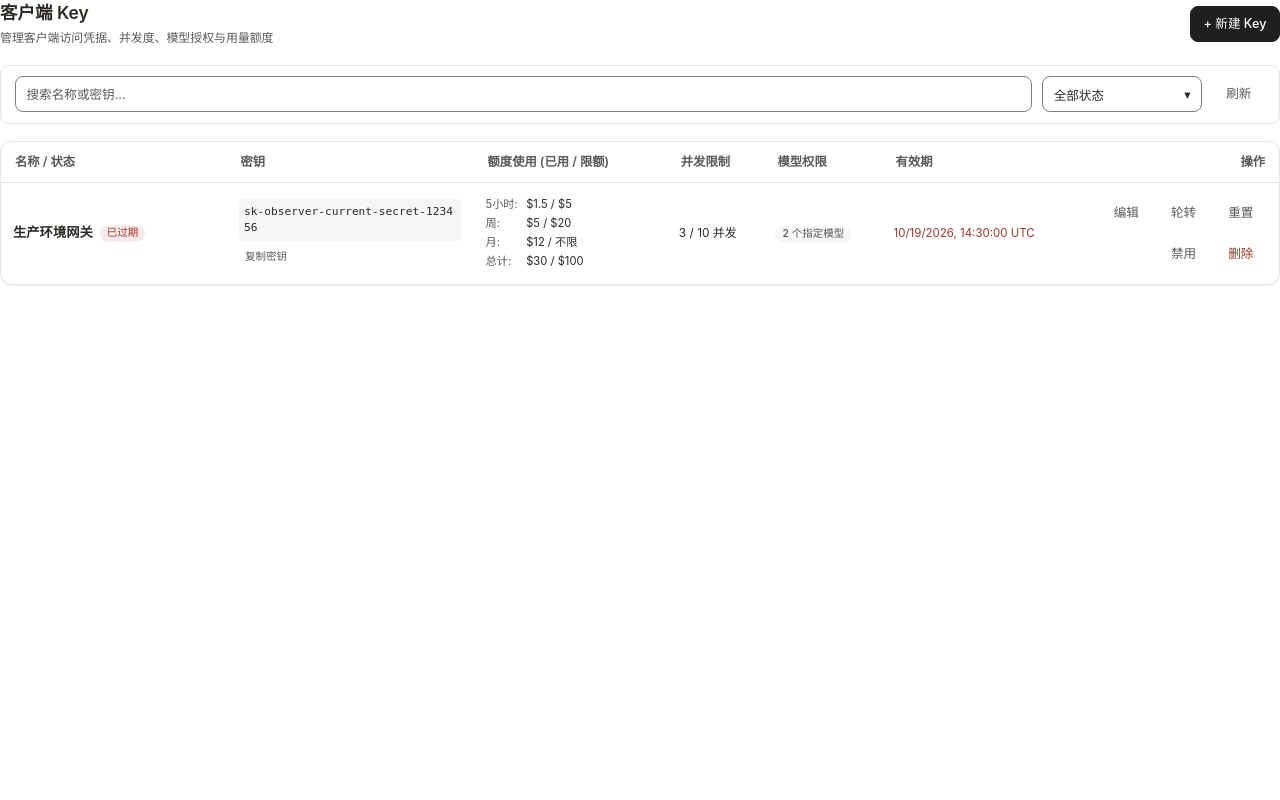
Test: KeysPage & ModelPicker Behavior Acceptance Tests › concurrency小数拒绝: rejects decimal and invalid numbers for max_concurrent
expect the text "生产环境网关" is shown: met, box top-left (13, 223), bottom-right (93, 243)
Click the button "+ 新建 Key": (1235, 24) top-left (1190, 6), bottom-right (1279, 42)
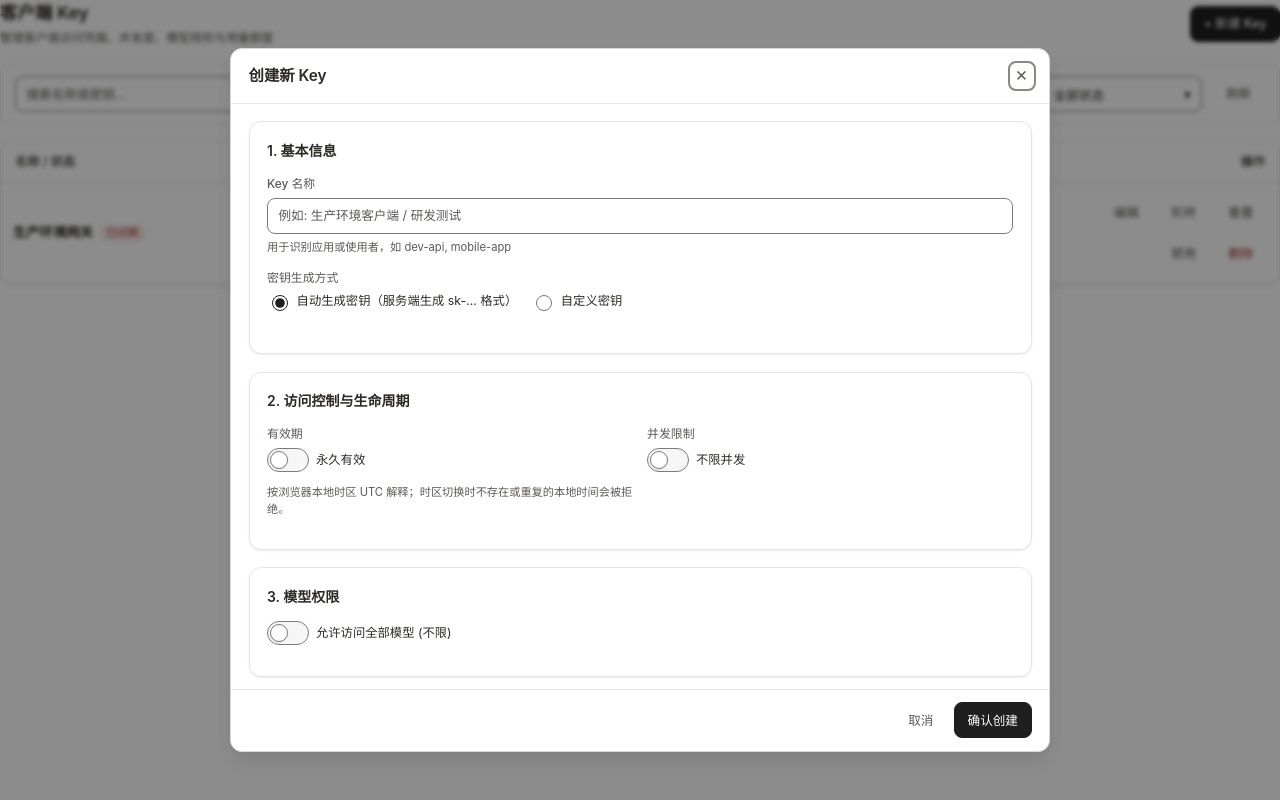
In the field with placeholder "例如: 生产环境客户端 / 研发测试": (640, 216) top-left (267, 198), bottom-right (1013, 234), type "ConcurrencyTest"
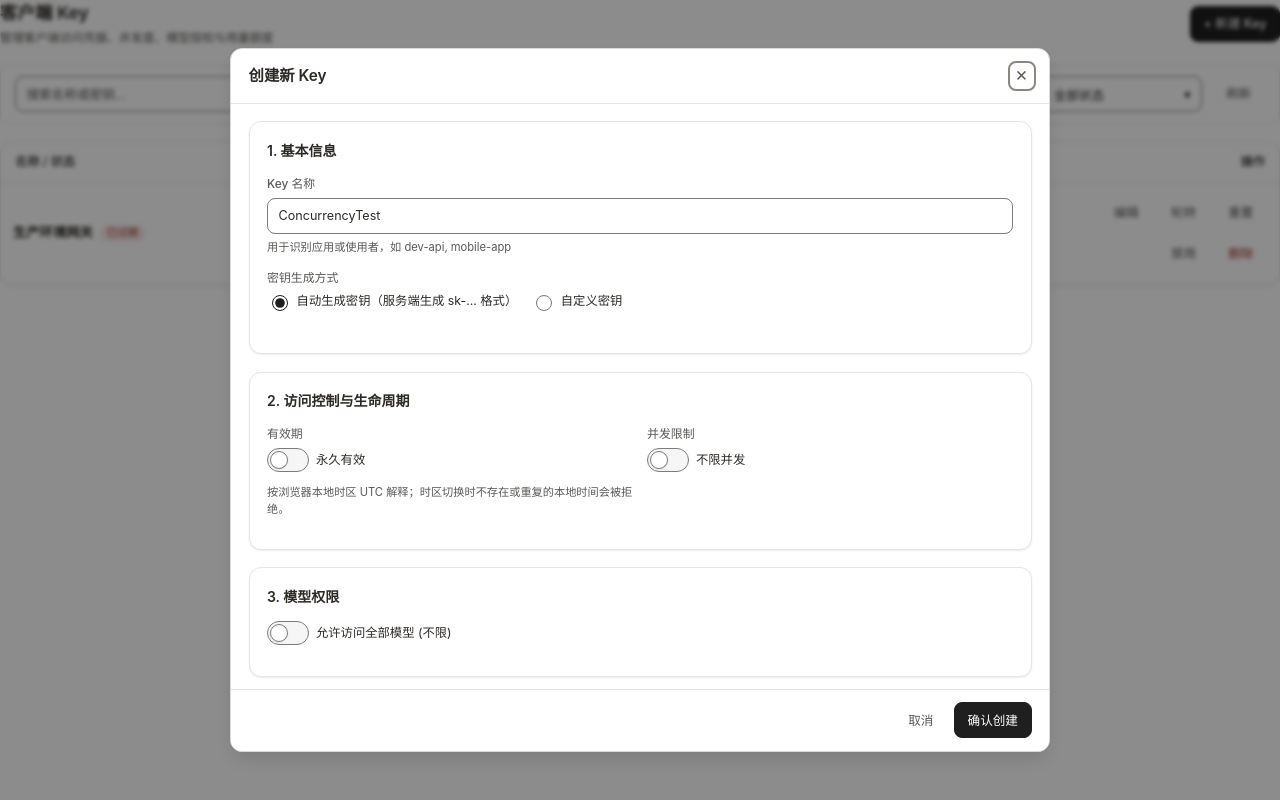
Click the switch named "启用并发限制": (668, 460) top-left (647, 448), bottom-right (689, 472)
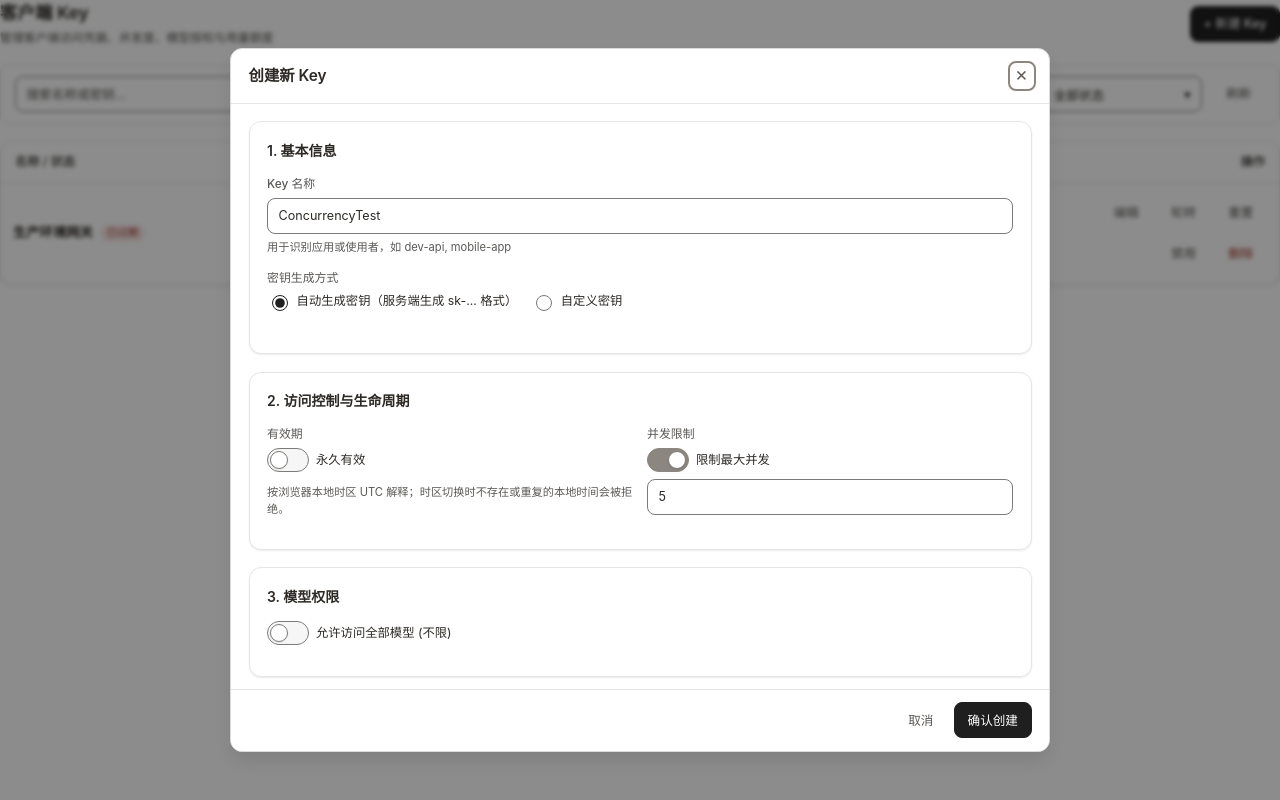
填入小数 '2.5'
Replace the text in the number field with placeholder "最大并发连接数" with "2.5": (830, 497) top-left (647, 479), bottom-right (1013, 515)
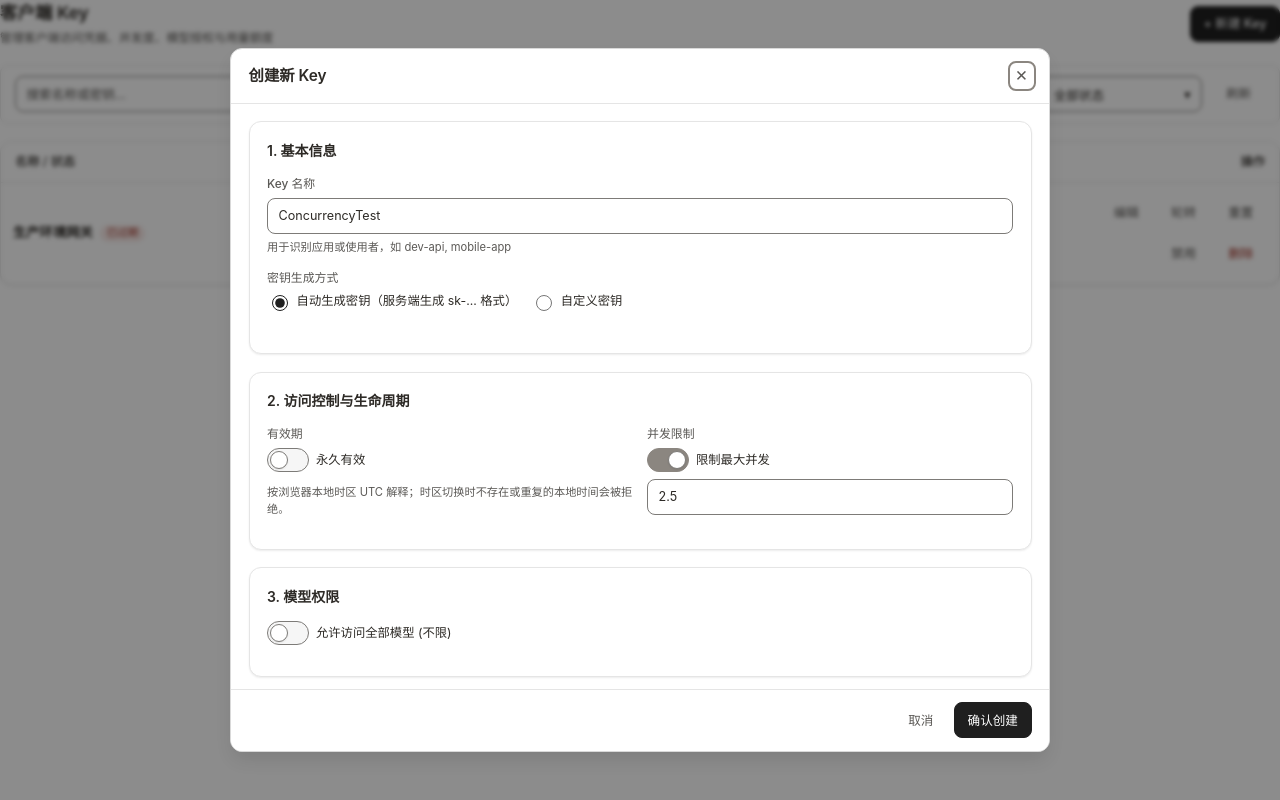
Click the button "确认创建": (993, 720) top-left (954, 702), bottom-right (1032, 738)
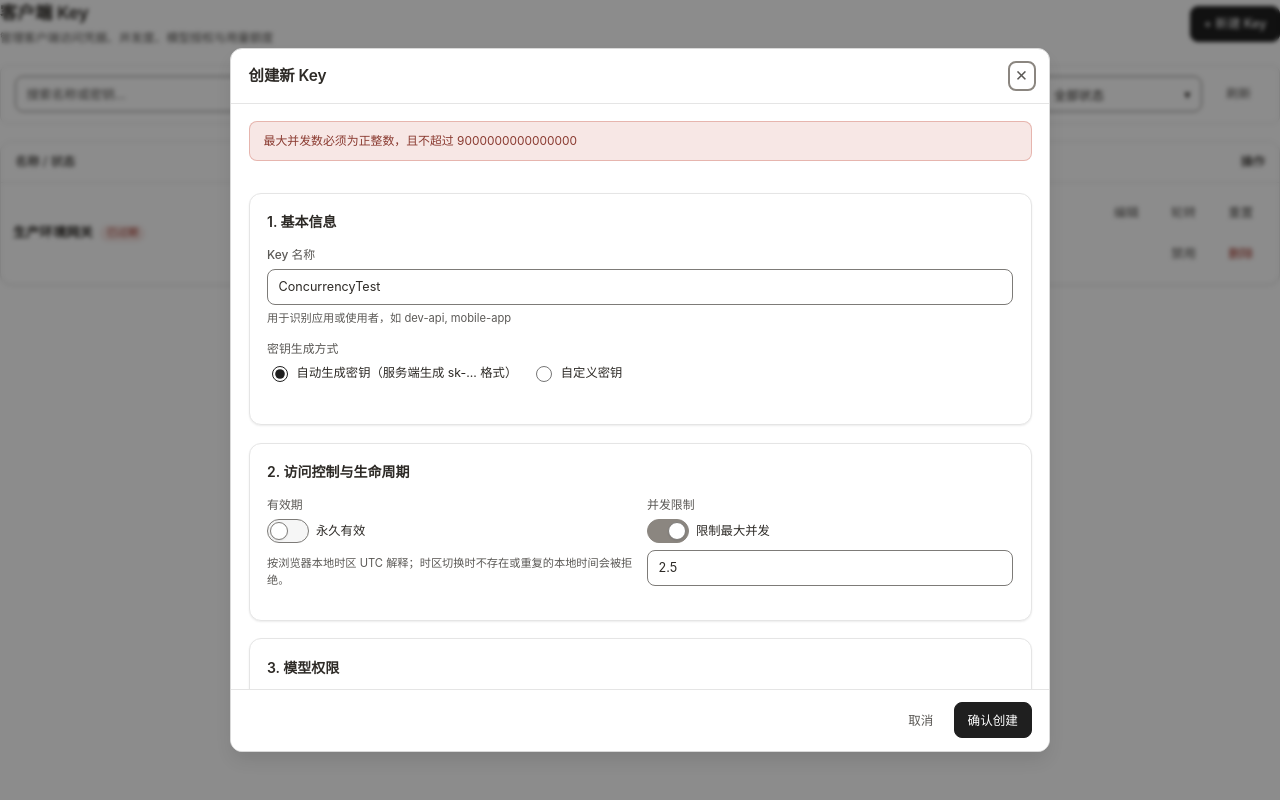
expect the text "最大并发数必须为正整数，且不超过 9000000000000000" is shown: met, box top-left (248, 121), bottom-right (1032, 161)
